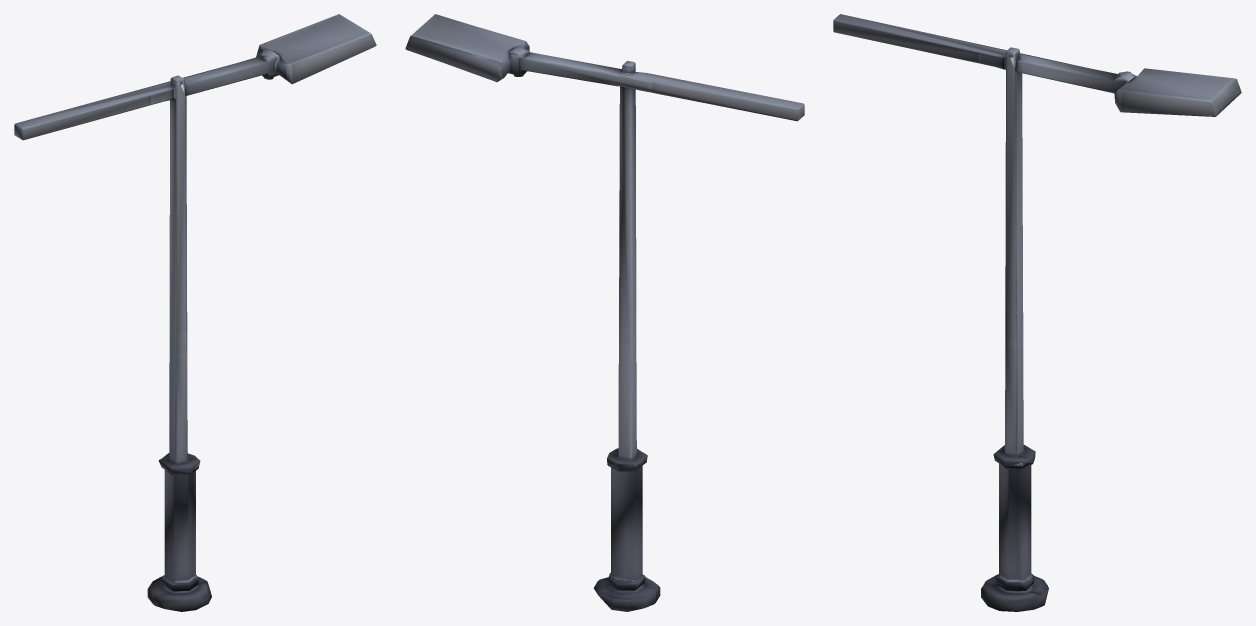
The model's file is lamp.glb.
The picture shows the model from 3 angles, left to right: view 1: azimuth 30°, elevation 25°; view 2: azimuth 150°, elevation 25°; view 3: azimuth 330°, elevation 25°; orthographic projection. The views are drawn at different scales.
Parts seen in each view (by area): view 1: tripo_node_0adda4c8-64cb-4703-a0d3-000b7e31768c; view 2: tripo_node_0adda4c8-64cb-4703-a0d3-000b7e31768c; view 3: tripo_node_0adda4c8-64cb-4703-a0d3-000b7e31768c.
Part boxes in pixels (box(x1,y1,x2,y2)): tripo_node_0adda4c8-64cb-4703-a0d3-000b7e31768c: box(14, 14, 376, 611); tripo_node_0adda4c8-64cb-4703-a0d3-000b7e31768c: box(405, 14, 804, 611); tripo_node_0adda4c8-64cb-4703-a0d3-000b7e31768c: box(833, 14, 1241, 611).
Size of the model in its own units: 5.06 by 7 by 1.04.
Materials: 1 (1 with a texture image).
